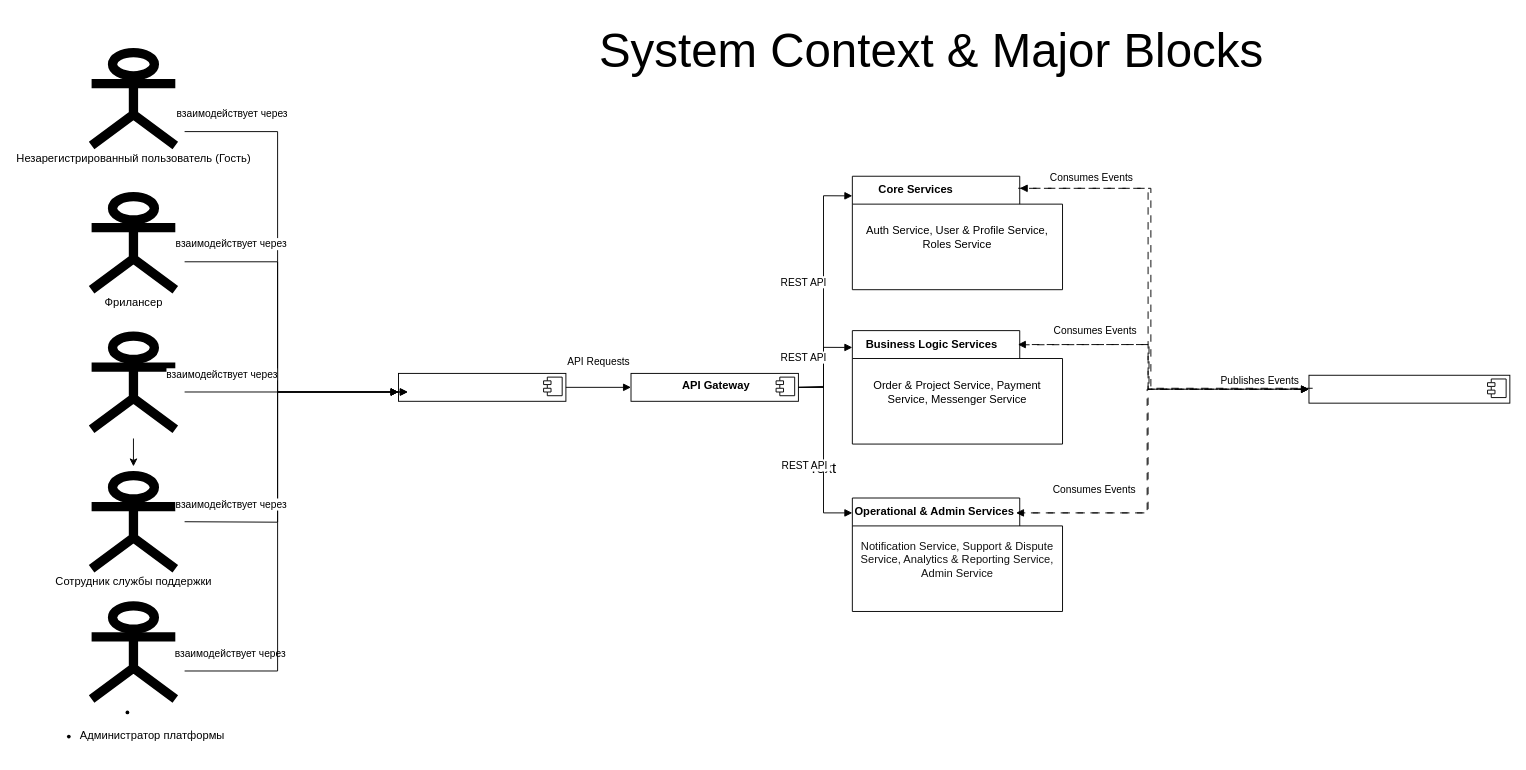
Image size: 1526x770. Some labels were removed from this diagram. Here are the shapes that lost their labels. From the top down, the centre of each, then its label:
point 132,382: Заказчик
point 482,386: Frontend Application
point 1409,388: RabbitMQ (Message Broker)
